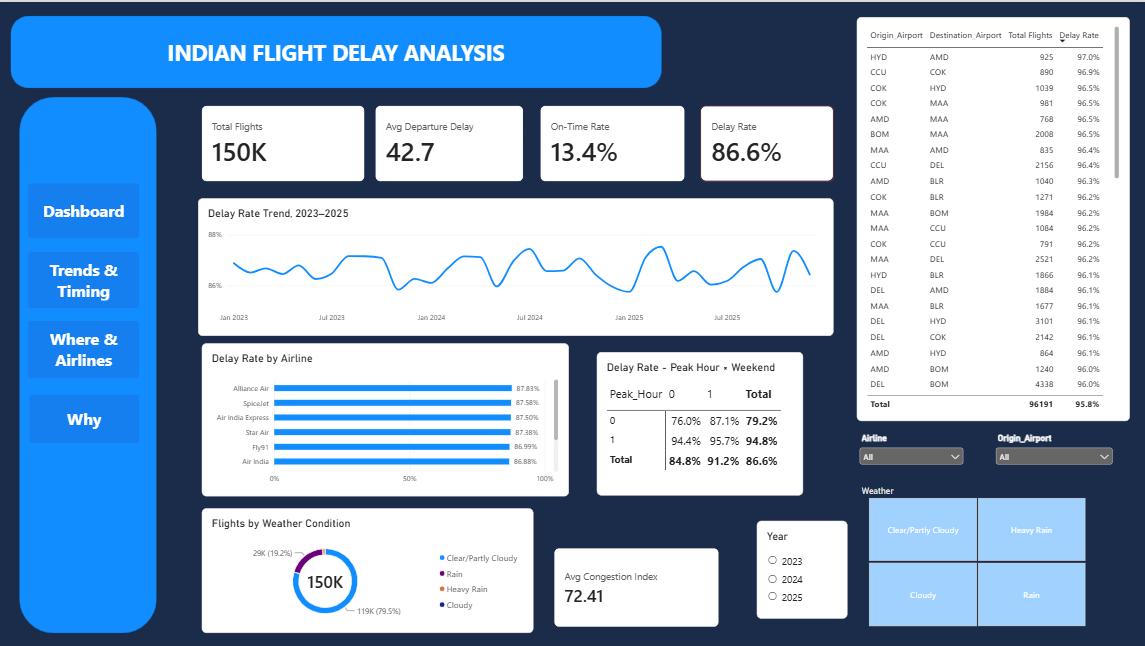

This screenshot's page, from the dashboard's own definition file:
{"tool":"powerbi","page":{"name":"Dashboard","canvas":[1920,1080],"ordinal":0},"visuals":[{"type":"cardVisual","fields":{"Data":["indian-flight-delay-analysis.Delay Rate"]},"box":[1171.4,173.8,222.4,126.5],"z":0},{"type":"cardVisual","fields":{"Data":["indian-flight-delay-analysis.Avg Departure Delay"]},"box":[628.6,173.8,246.9,126.5],"z":1000},{"type":"cardVisual","fields":{"Data":["indian-flight-delay-analysis.On-Time Rate"]},"box":[904.1,173.8,240.8,126.5],"z":2000},{"type":"cardVisual","fields":{"Data":["indian-flight-delay-analysis.Total Flights"]},"box":[338.8,173.8,271.4,126.5],"z":3000},{"type":"lineChart","title":"Delay Rate Trend, 2023–2025","fields":{"Category":["DateTable.Month_Year"],"Y":["indian-flight-delay-analysis.Delay Rate"]},"box":[333.3,327.5,1058.8,229.4],"z":4000},{"type":"donutChart","title":"Flights by Weather Condition","fields":{"Category":["indian-flight-delay-analysis.Weather"],"Y":["indian-flight-delay-analysis.Total Flights"]},"box":[339.2,843.1,552.9,207.8],"z":5000},{"type":"clusteredBarChart","title":"Delay Rate by Airline","fields":{"Category":["indian-flight-delay-analysis.Airline"],"Y":["indian-flight-delay-analysis.Delay Rate"]},"box":[339.2,568.6,611.8,254.9],"z":6000},{"type":"cardVisual","title":"Avg Origin Congestion","fields":{"Data":["indian-flight-delay-analysis.Avg Congestion Index"]},"box":[927.5,909.8,274.5,131.4],"z":7000},{"type":"shape","box":[35.4,158.3,229.2,893.8],"z":8000},{"type":"tableEx","fields":{"Values":["indian-flight-delay-analysis.Origin_Airport","indian-flight-delay-analysis.Destination_Airport","indian-flight-delay-analysis.Total Flights","indian-flight-delay-analysis.Delay Rate"]},"box":[1430.6,24.5,455.1,673.5],"z":9000},{"type":"pivotTable","title":"Delay Rate - Peak Hour × Weekend","fields":{"Columns":["indian-flight-delay-analysis.Is_Weekend"],"Rows":["indian-flight-delay-analysis.Peak_Hour"],"Values":["indian-flight-delay-analysis.Delay Rate"]},"box":[997.9,583.3,343.8,239.6],"z":10000},{"type":"listSlicer","fields":{"Values":["DateTable.Year"]},"box":[1264.7,864.7,151,163.3],"z":11000},{"type":"slicer","fields":{"Values":["indian-flight-delay-analysis.Airline"]},"box":[1431.4,719.6,182.4,82.4],"z":12000},{"type":"slicer","fields":{"Values":["indian-flight-delay-analysis.Weather"]},"box":[1431.4,805.9,400,235.3],"z":13000},{"type":"slicer","fields":{"Values":["indian-flight-delay-analysis.Origin_Airport"]},"box":[1658.8,719.6,203.9,86.3],"z":14000},{"type":"actionButton","box":[50,302.1,185.4,91.7],"z":15000},{"type":"actionButton","box":[52.1,654.2,183.3,81.2],"z":16000},{"type":"actionButton","box":[50,531.2,185.4,95.8],"z":17000},{"type":"actionButton","box":[50,416.7,185.4,93.8],"z":18000},{"type":"shape","box":[20.8,22.9,1085.4,120.8],"z":19000}]}

Visuals, with their boxes in screenshot pixels (x1, y1, x2, y2), scaled from the page's 1920x1080 canvas onto the 1145x646 screenshot:
cardVisual - indian-flight-delay-analysis.Delay Rate: rect(699, 104, 831, 180)
cardVisual - indian-flight-delay-analysis.Avg Departure Delay: rect(375, 104, 522, 180)
cardVisual - indian-flight-delay-analysis.On-Time Rate: rect(539, 104, 683, 180)
cardVisual - indian-flight-delay-analysis.Total Flights: rect(202, 104, 364, 180)
"Delay Rate Trend, 2023–2025" lineChart: rect(199, 196, 830, 333)
"Flights by Weather Condition" donutChart: rect(202, 504, 532, 629)
"Delay Rate by Airline" clusteredBarChart: rect(202, 340, 567, 493)
"Avg Origin Congestion" cardVisual: rect(553, 544, 717, 623)
shape: rect(21, 95, 158, 629)
tableEx - indian-flight-delay-analysis.Origin_Airport x indian-flight-delay-analysis.Destination_Airport: rect(853, 15, 1125, 418)
"Delay Rate - Peak Hour × Weekend" pivotTable: rect(595, 349, 800, 492)
listSlicer - DateTable.Year: rect(754, 517, 844, 615)
slicer - indian-flight-delay-analysis.Airline: rect(854, 430, 962, 480)
slicer - indian-flight-delay-analysis.Weather: rect(854, 482, 1092, 623)
slicer - indian-flight-delay-analysis.Origin_Airport: rect(989, 430, 1111, 482)
actionButton: rect(30, 181, 140, 236)
actionButton: rect(31, 391, 140, 440)
actionButton: rect(30, 318, 140, 375)
actionButton: rect(30, 249, 140, 305)
shape: rect(12, 14, 660, 86)
